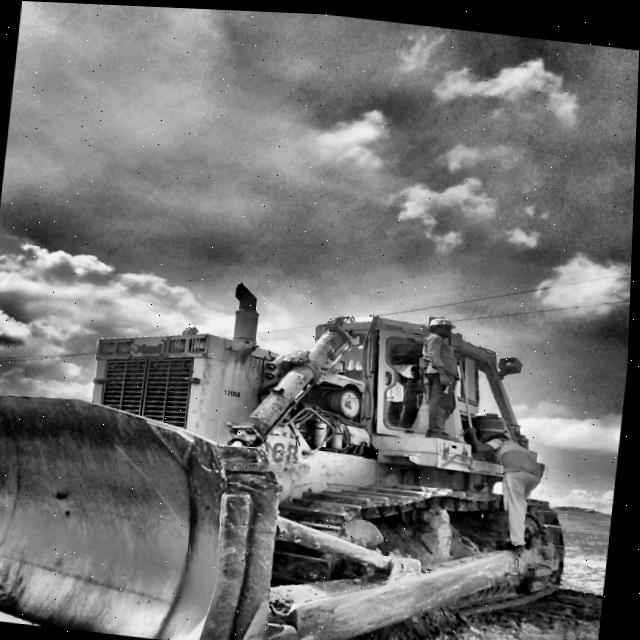buldozerpayloadergrader: (0, 286, 572, 640)
